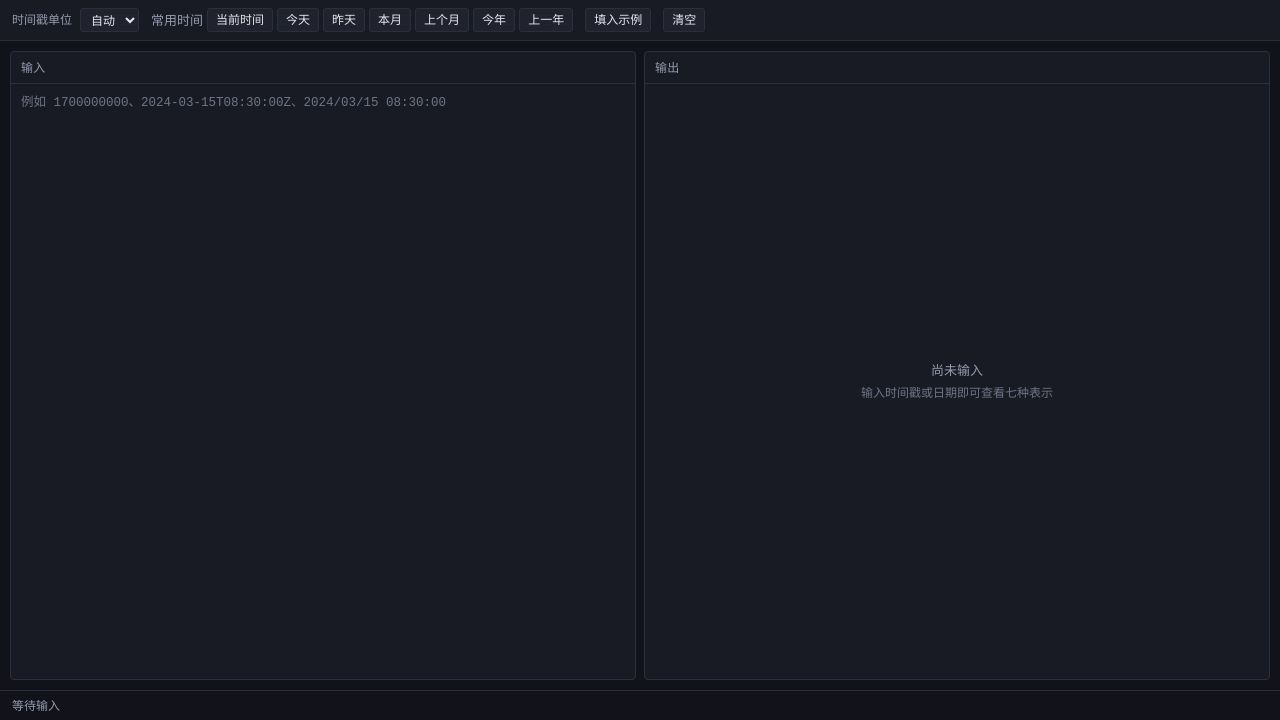
日期转换器工具 › 输入秒级时间戳后展示多项表示
Type "1700000000" into the text box named "日期或时间戳" at coordinates (323, 150), box [11,84,635,216]
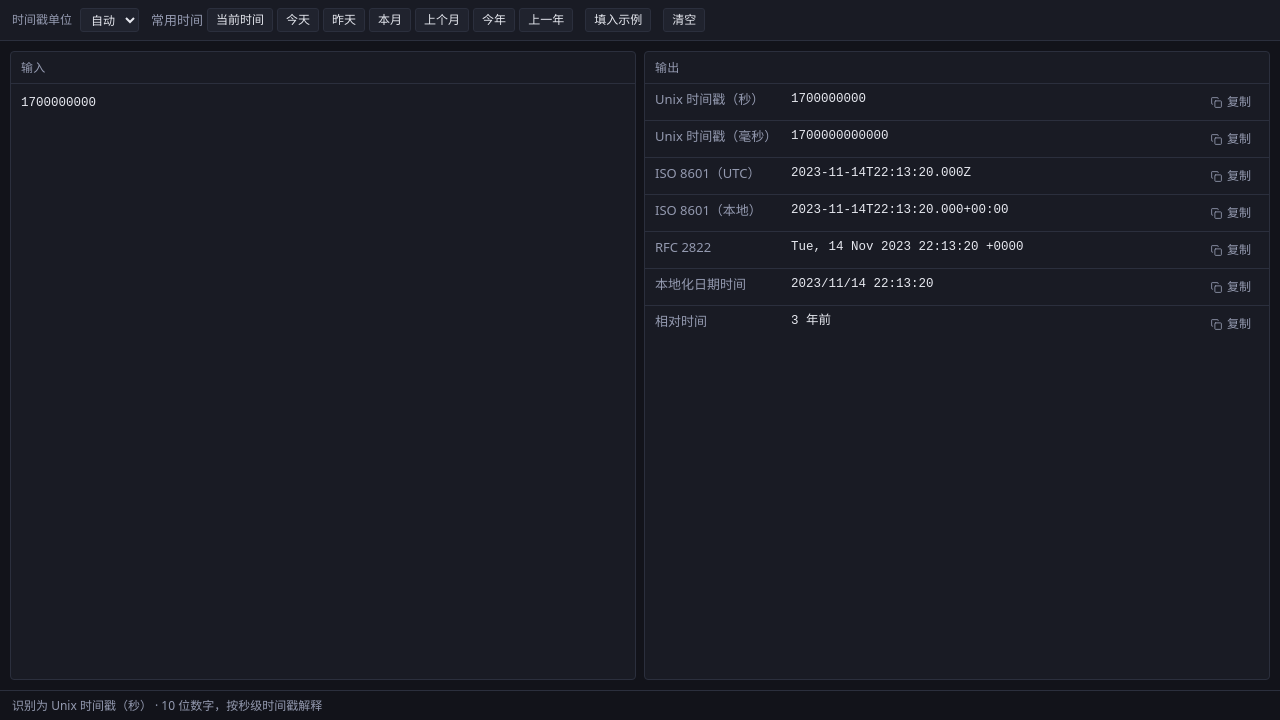
Result: the text "2023-11-14T22:13:20.000Z" is shown at [791,166,971,180]
Result: the text "1700000000" is shown at [791,92,866,106]
Result: the text "1700000000000" is shown at [791,129,888,143]
